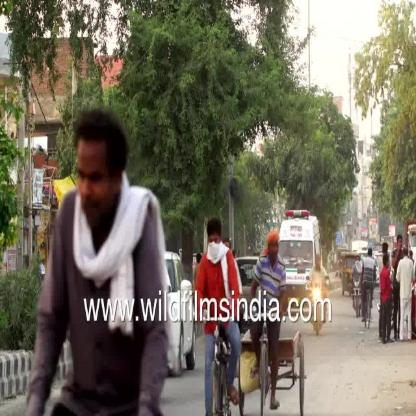priority: (281, 207, 325, 259)
